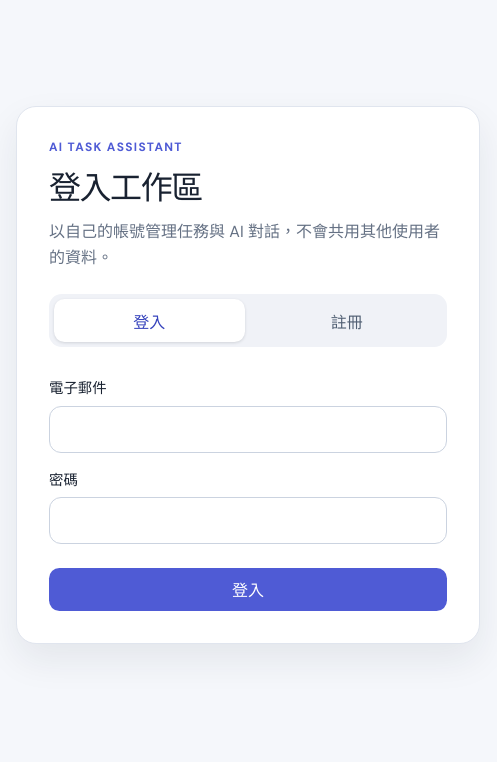
Scenario: App authentication state › validates confirmation before register request
Check: the heading "登入工作區" is shown, box [49,166,202,208]
Click the tab "註冊": (347, 320) [251,299,442,342]
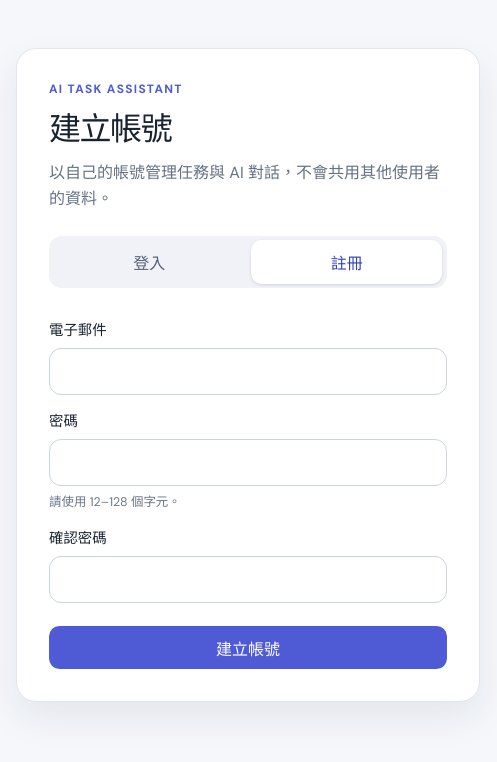
In the field labelled "電子郵件": (248, 371) [49,348,447,395], type "new@example.com"
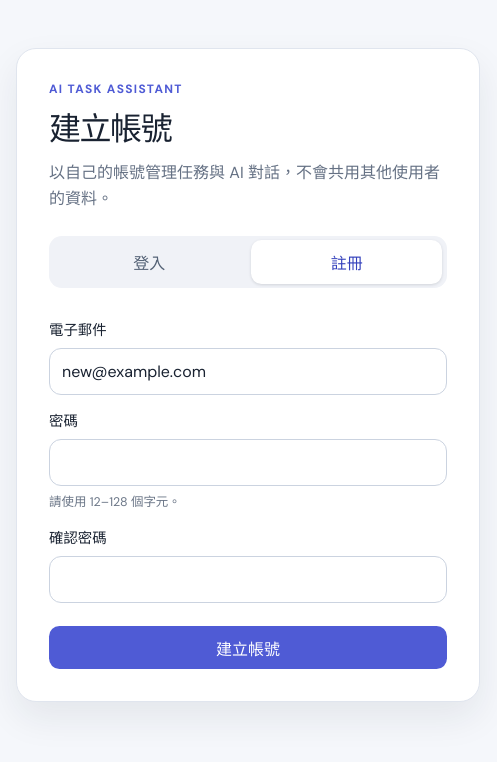
In the password field labelled "密碼": (248, 462) [49,439,447,486], type "123456789012"
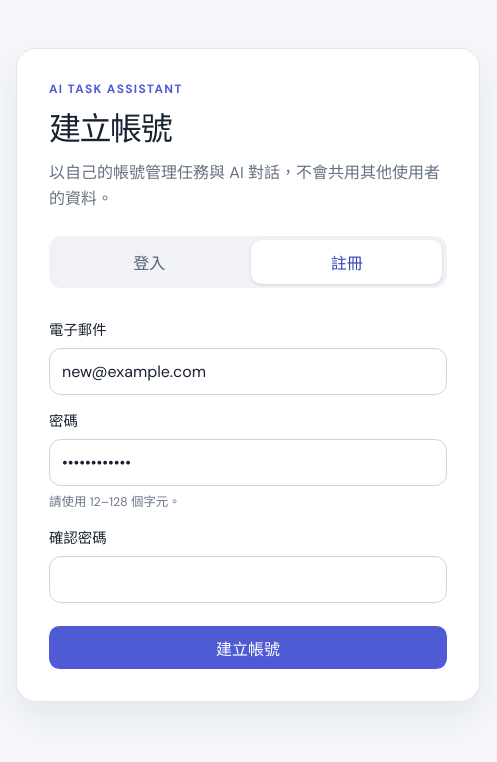
In the password field labelled "確認密碼": (248, 580) [49,556,447,603], type "different-password"
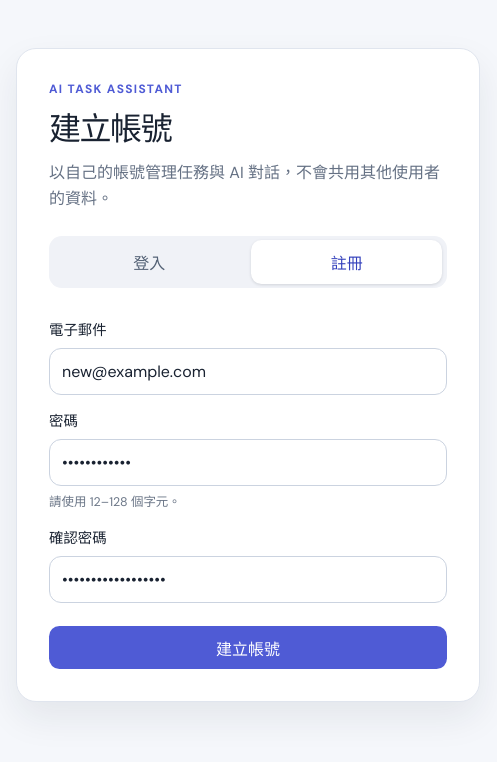
Click the button "建立帳號": (248, 648) [49,626,447,670]
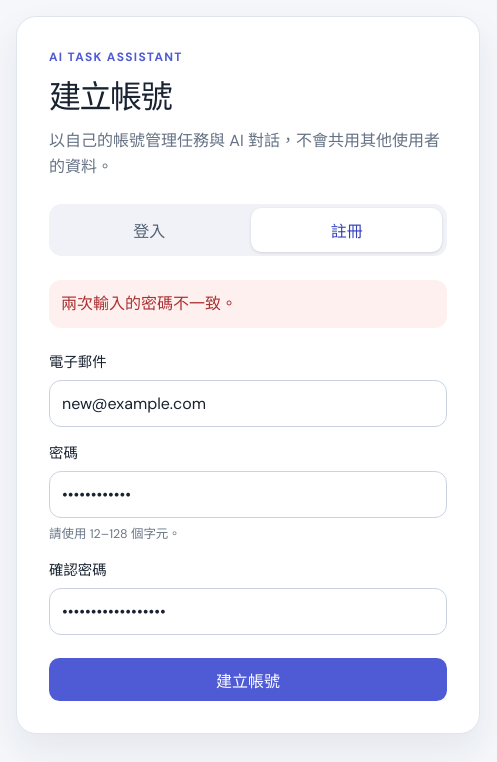
Check: the message shows "兩次輸入的密碼不一致", box [61,293,237,314]
